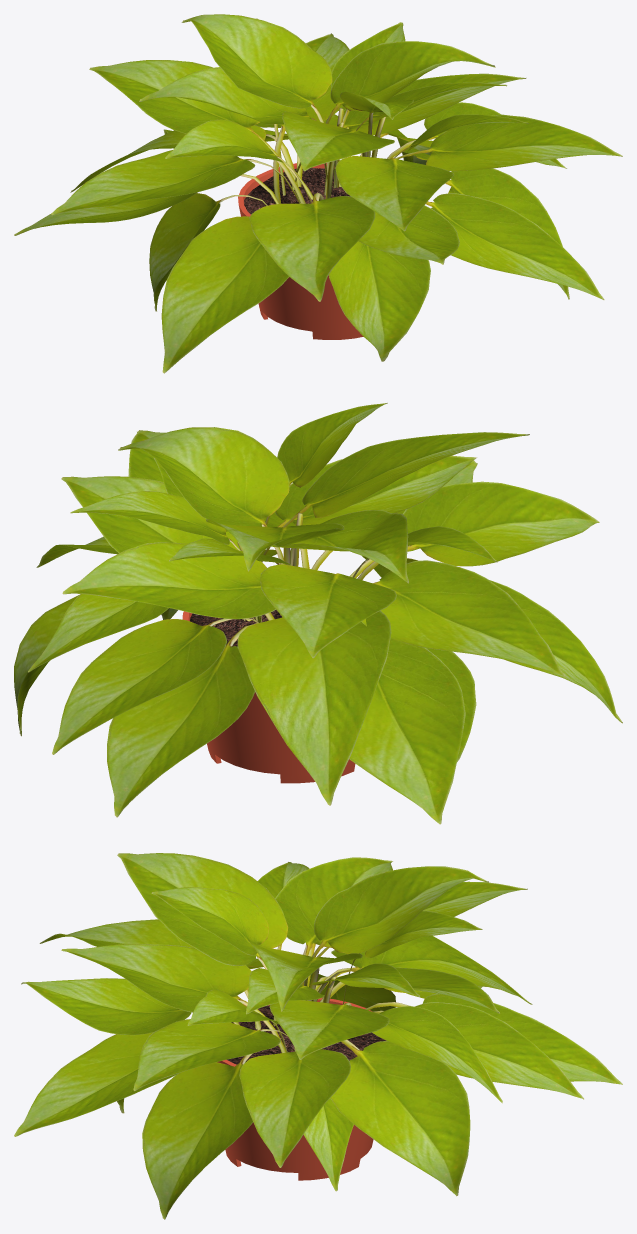
Rendered from lp-plant.glb.
3 views of the same model, one above another, from view 1: azimuth 30°, elevation 25°; view 2: azimuth 150°, elevation 25°; view 3: azimuth 270°, elevation 25° (orthographic). The views are drawn at different scales.
Parts seen in each view (by area): view 1: Plane.048, Plane.078, Plane.045, Plane.047, Plane.076, Plane.062, Plane.049, Plane.059, Plane.061, Plane.072, Cylinder.004, Plane.060 (+16 smaller); view 2: Plane.051, Plane.050, Plane.049, Plane.052, Plane.053, Plane.072, Plane.047, Plane.058, Plane.059, Plane.063, Cylinder.004, Plane.057 (+15 smaller); view 3: Plane.054, Plane.056, Plane.078, Plane.063, Plane.055, Plane.061, Plane.045, Plane.053, Plane.046, Plane.062, Plane.060, Plane.071 (+17 smaller).
Part boxes in pixels (x1,y1,x2,y2): Plane.048: [161, 203, 304, 373]; Plane.078: [181, 14, 332, 195]; Plane.045: [426, 193, 604, 299]; Plane.047: [249, 193, 375, 301]; Plane.076: [328, 241, 430, 361]; Plane.062: [397, 114, 622, 171]; Plane.049: [51, 150, 300, 215]; Plane.059: [89, 60, 305, 203]; Plane.061: [335, 156, 454, 231]; Plane.072: [324, 41, 495, 197]; Cylinder.004: [238, 163, 363, 339]; Plane.060: [139, 67, 316, 124]; Plane.051: [237, 611, 391, 805]; Plane.050: [349, 638, 465, 824]; Plane.049: [361, 560, 565, 676]; Plane.052: [107, 623, 258, 817]; Plane.053: [52, 618, 258, 754]; Plane.072: [118, 427, 289, 564]; Plane.047: [357, 481, 599, 579]; Plane.058: [62, 542, 275, 619]; Plane.059: [260, 564, 396, 658]; Plane.063: [261, 432, 529, 562]; Cylinder.004: [182, 611, 355, 783]; Plane.057: [61, 476, 274, 620]; Plane.054: [322, 1040, 470, 1196]; Plane.056: [142, 1044, 288, 1219]; Plane.078: [304, 866, 489, 1000]; Plane.063: [117, 853, 295, 1051]; Plane.055: [239, 1049, 350, 1167]; Plane.061: [61, 944, 286, 1053]; Plane.045: [14, 1032, 178, 1136]; Plane.053: [373, 1002, 583, 1099]; Plane.046: [21, 978, 238, 1035]; Plane.062: [133, 1019, 292, 1091]; Plane.060: [275, 857, 392, 985]; Plane.071: [372, 1006, 502, 1103].
Size of the model in its own units: 1.19 by 0.5889 by 1.27.
3 materials, 2 textured.
